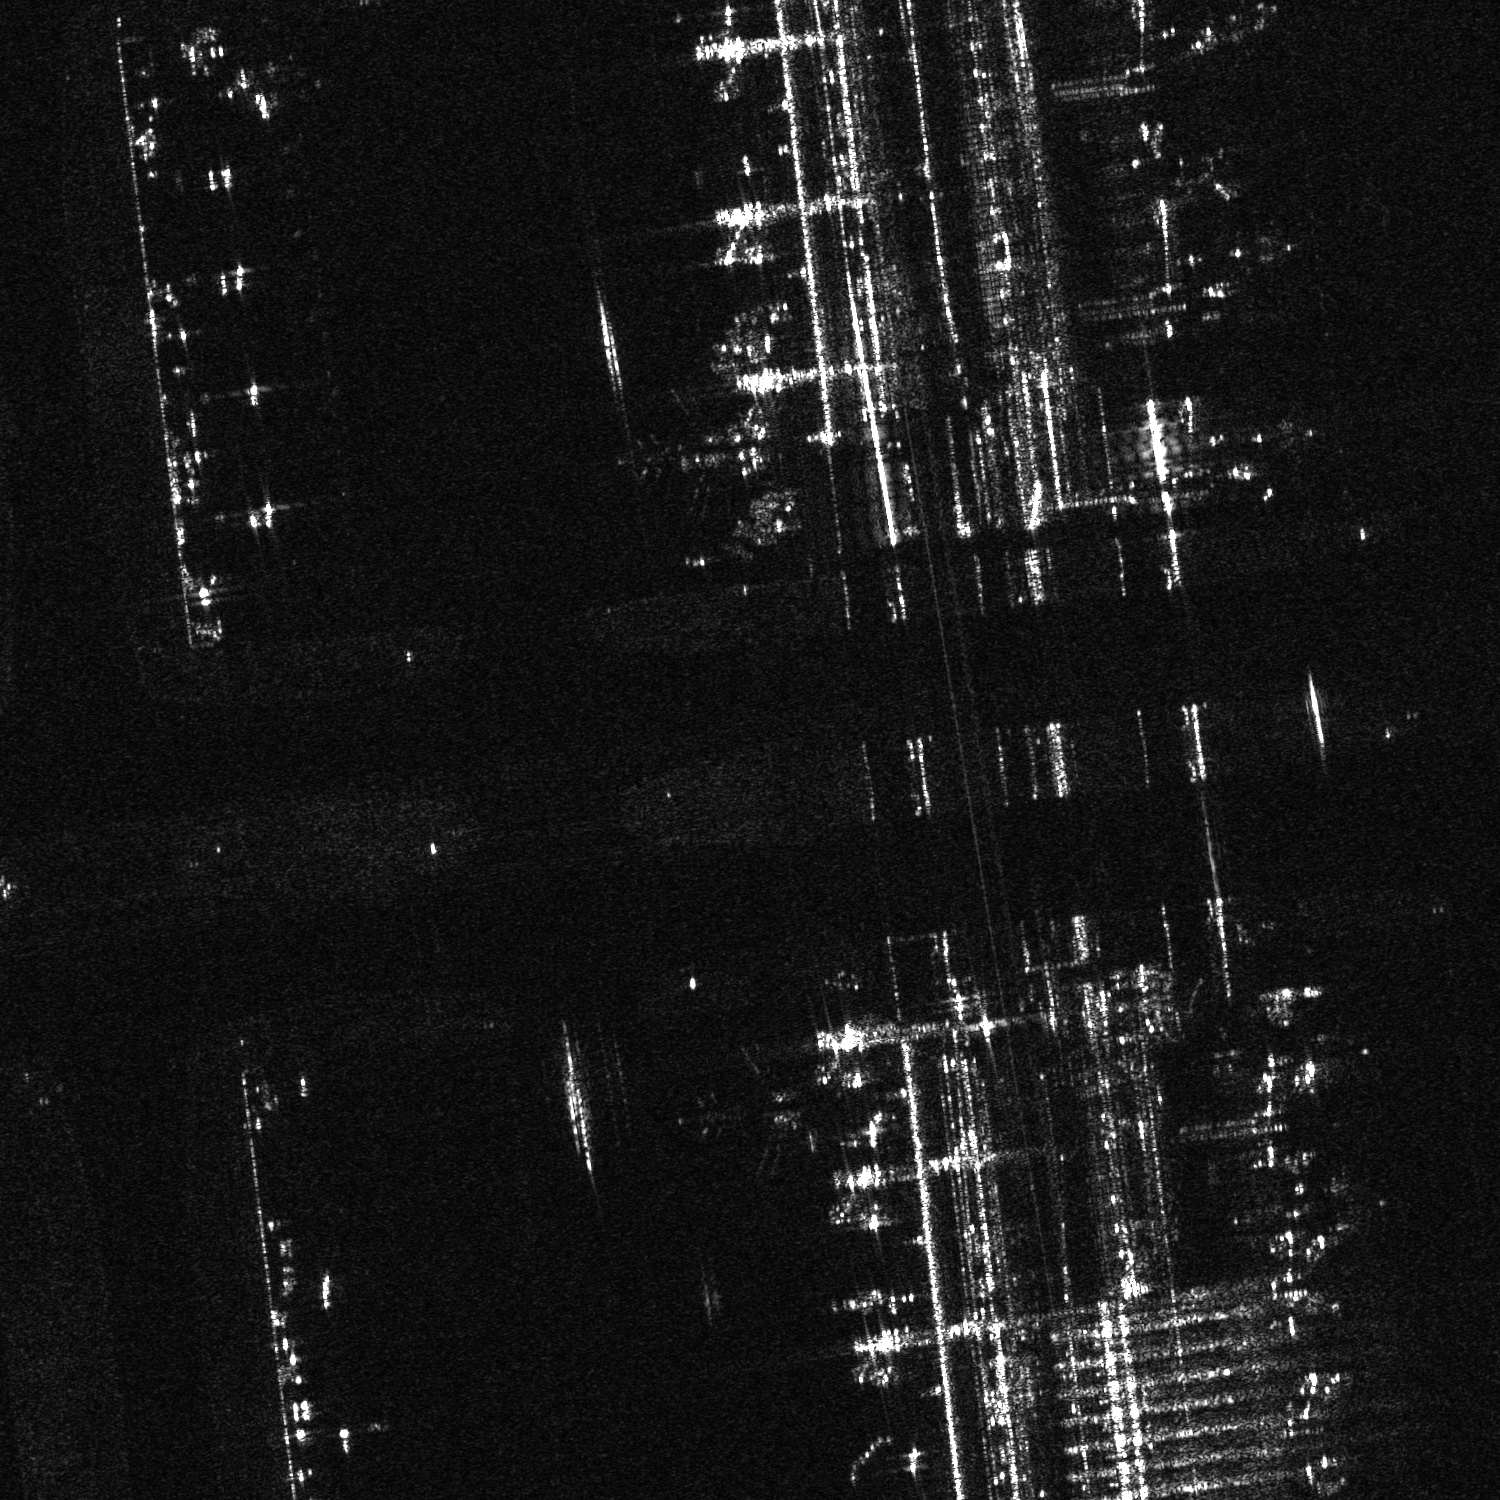A330: (615, 385, 747, 529)
other: (673, 1033, 823, 1190)
